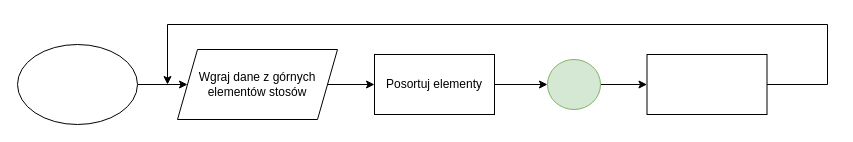
The diagram is 853 pixels wide and 142 high, and some of its shapes have lost their labels. Here are the shapes that lost their labels. From the top down, the box of each, then its label:
(16, 44, 138, 124): START
(646, 54, 767, 114): Wyczyść wszystkie listy
